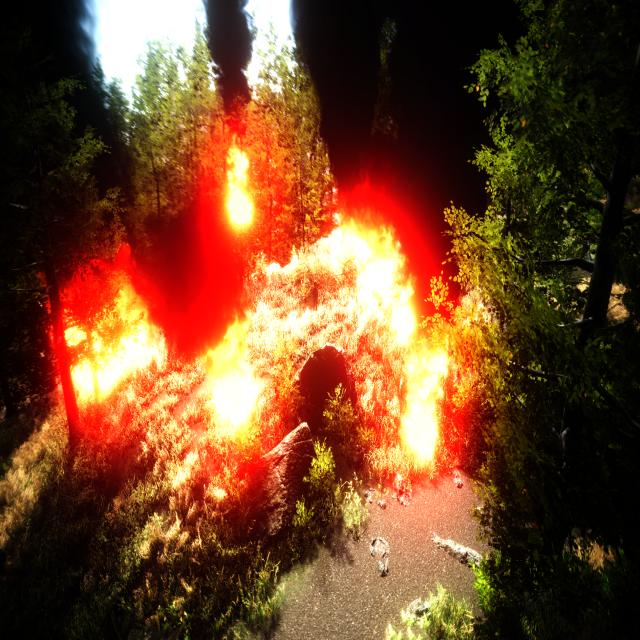Human: (312, 280, 321, 319)
